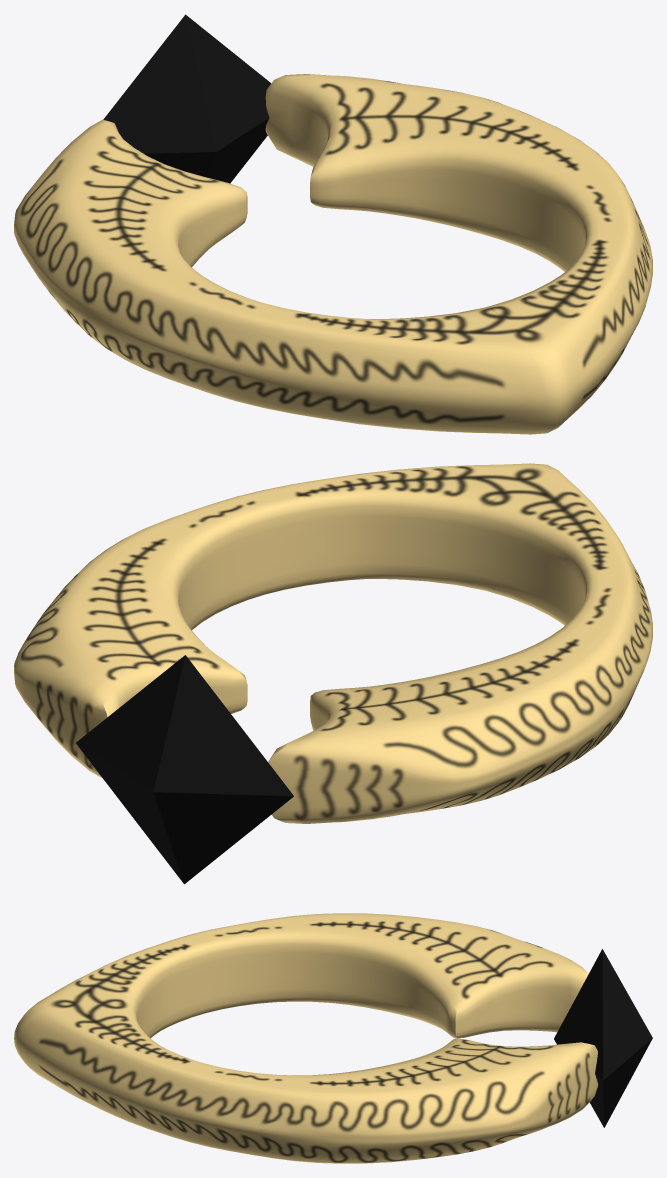
Rendered from gaunts_ring_horcrux_-_harry_potter.glb.
The picture shows the model from 3 angles, top to bottom: view 1: azimuth 30°, elevation 25°; view 2: azimuth 150°, elevation 25°; view 3: azimuth 270°, elevation 25°; orthographic projection. The views are drawn at different scales.
Visible parts, largest first — view 1: bague.001_0, caillou.001_1; view 2: bague.001_0, caillou.001_1; view 3: bague.001_0, caillou.001_1.
Boxes of the visible parts, x1,y1,x2,y2 form: bague.001_0: (14, 74, 652, 434); caillou.001_1: (103, 14, 271, 183); bague.001_0: (14, 463, 652, 823); caillou.001_1: (76, 655, 293, 884); bague.001_0: (14, 913, 598, 1163); caillou.001_1: (554, 949, 652, 1127).
Bounding box in the file's own units: 1.64 × 0.6807 × 2.19.
Materials: 1 (1 with a texture image).
